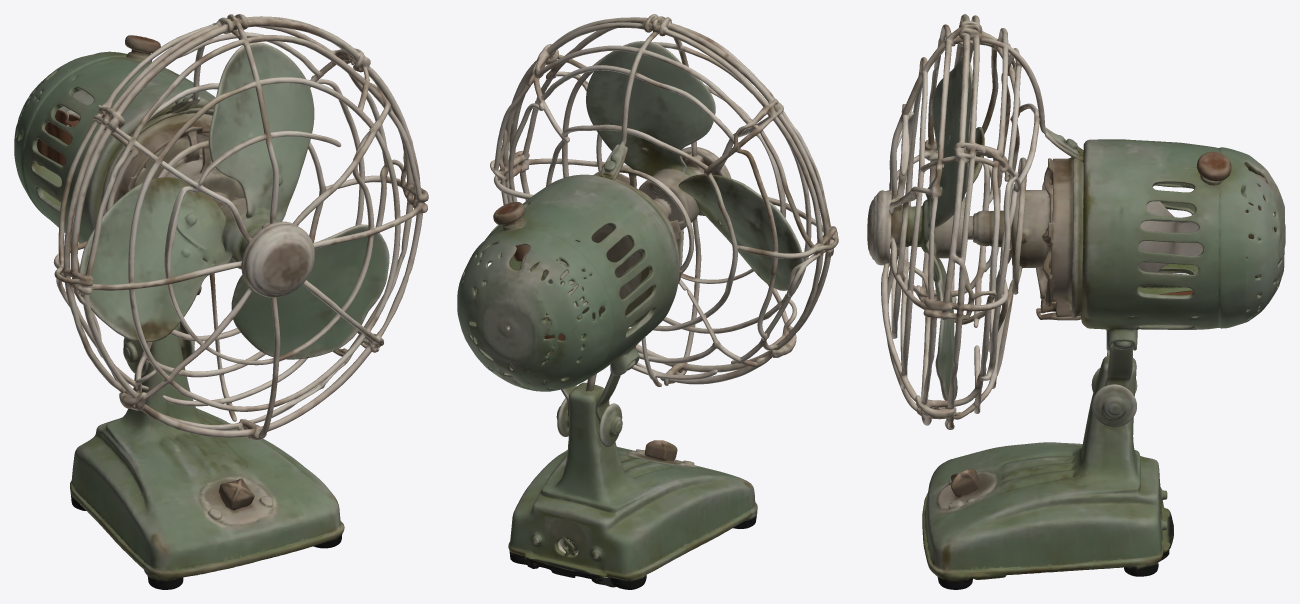
Rendered from fan50s.glb.
The picture shows the model from 3 angles, left to right: view 1: azimuth 30°, elevation 25°; view 2: azimuth 150°, elevation 25°; view 3: azimuth 270°, elevation 25°; orthographic projection. The views are drawn at different scales.
Bounding box in the file's own units: 0.6902 × 0.9915 × 0.7207.
Materials: 1 (1 with a texture image).
